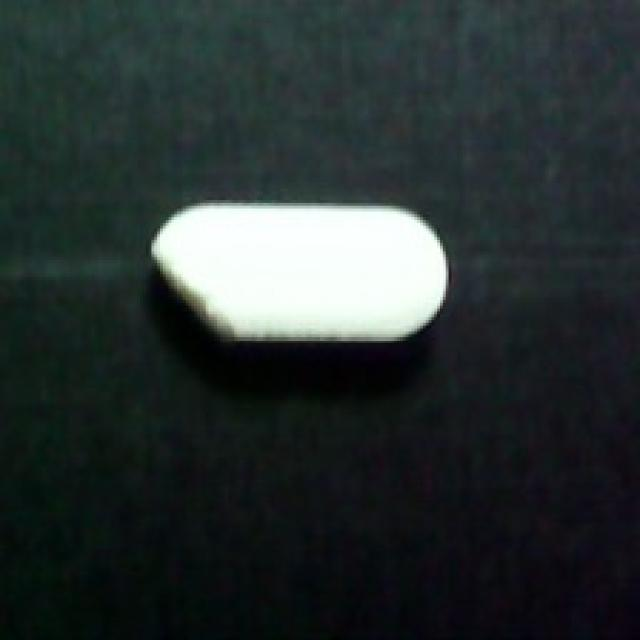defected: (143, 194, 451, 354)
